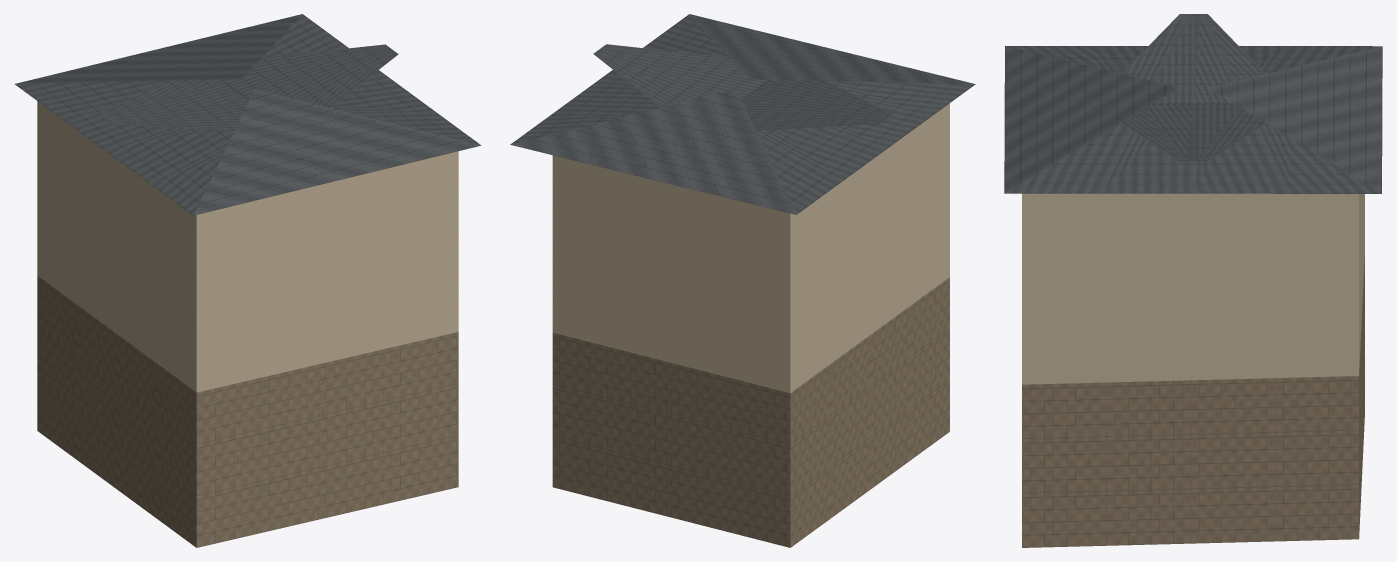
The model's file is bld_c14_14_488.gltf.
The picture shows the model from 3 angles, left to right: view 1: azimuth 30°, elevation 25°; view 2: azimuth 150°, elevation 25°; view 3: azimuth 270°, elevation 25°; orthographic projection. The views are drawn at different scales.
Parts seen in each view (by area): view 1: bld_c14_14_488; view 2: bld_c14_14_488; view 3: bld_c14_14_488.
Part boxes in pixels (x1,y1,x2,y2): bld_c14_14_488: (14,14,481,547); bld_c14_14_488: (510,14,975,547); bld_c14_14_488: (1004,14,1382,547).
Bounding box in the file's own units: 9.91 × 12.3 × 10.71.
Materials: 3 (3 with a texture image).
